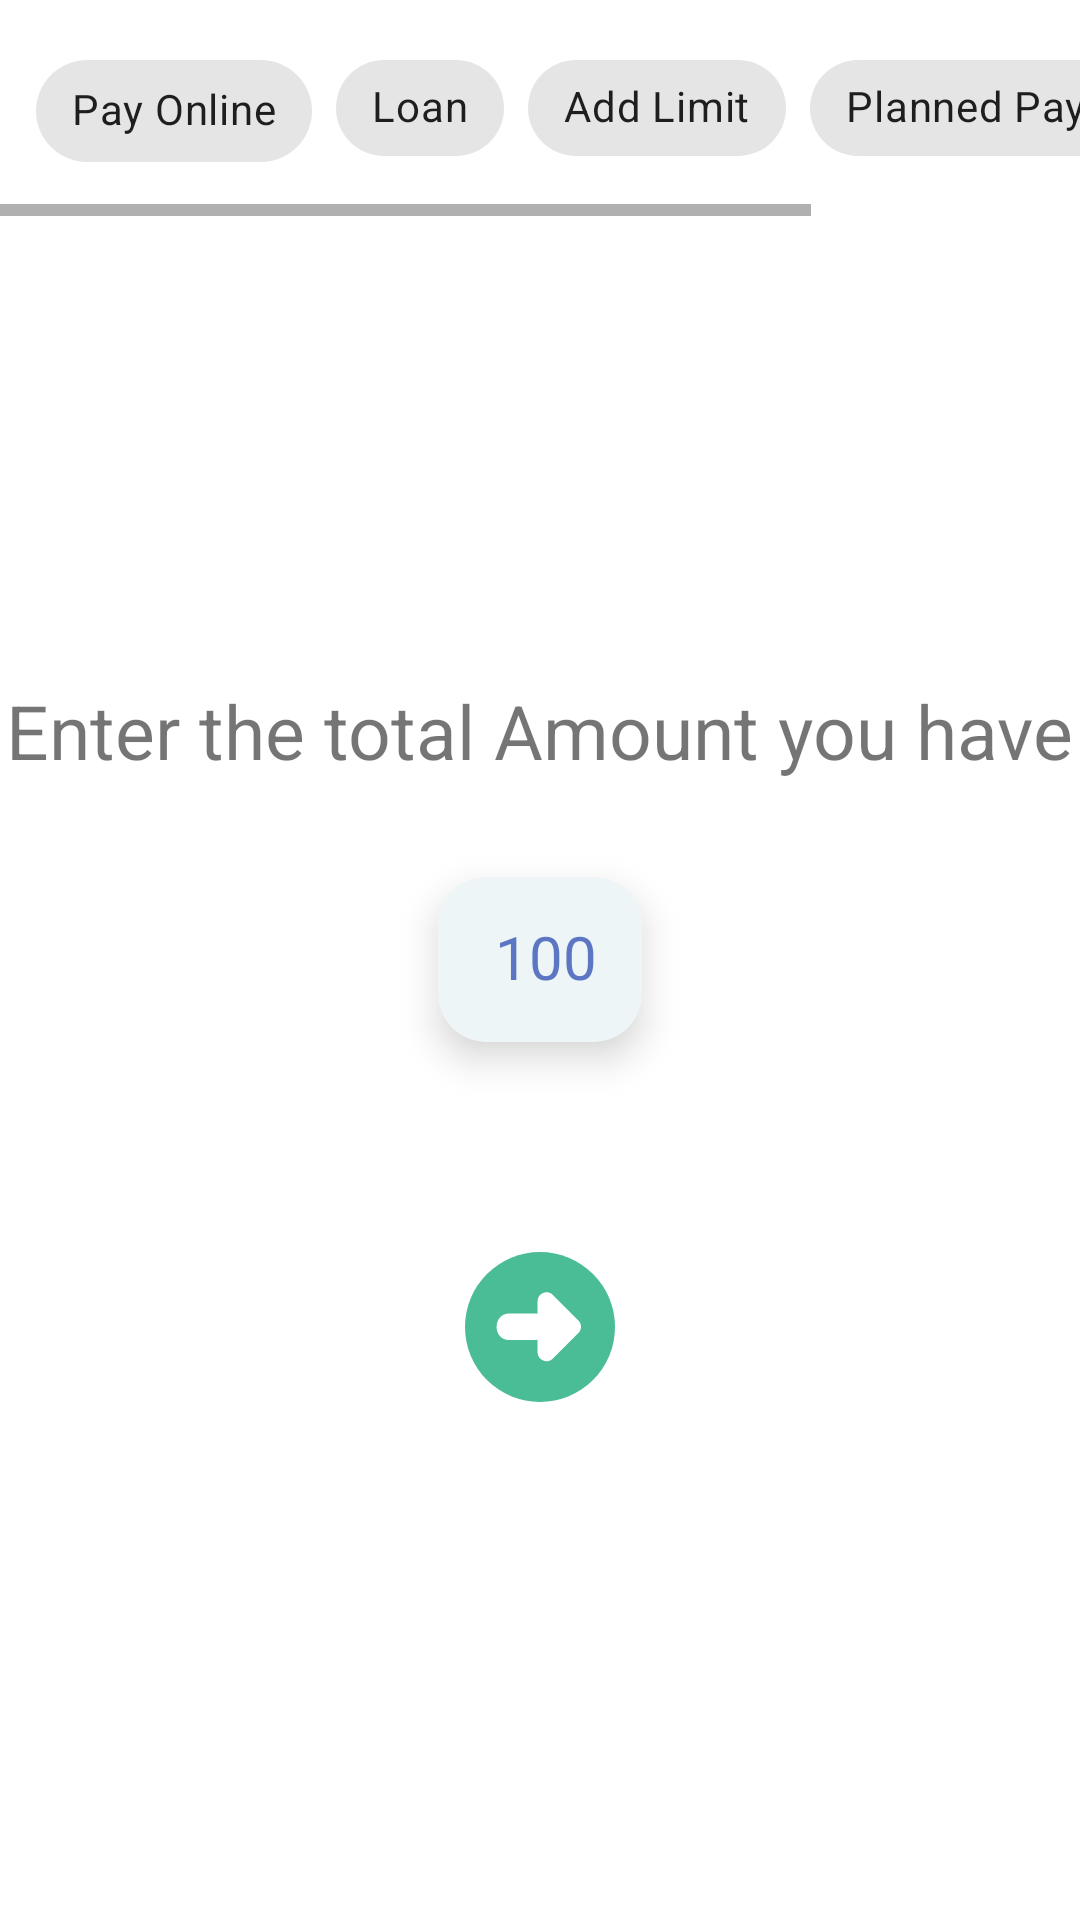

Named icons in this screenshot (1080 × 1920) and their centers, [x,y]:
gonext: [540,1327]
